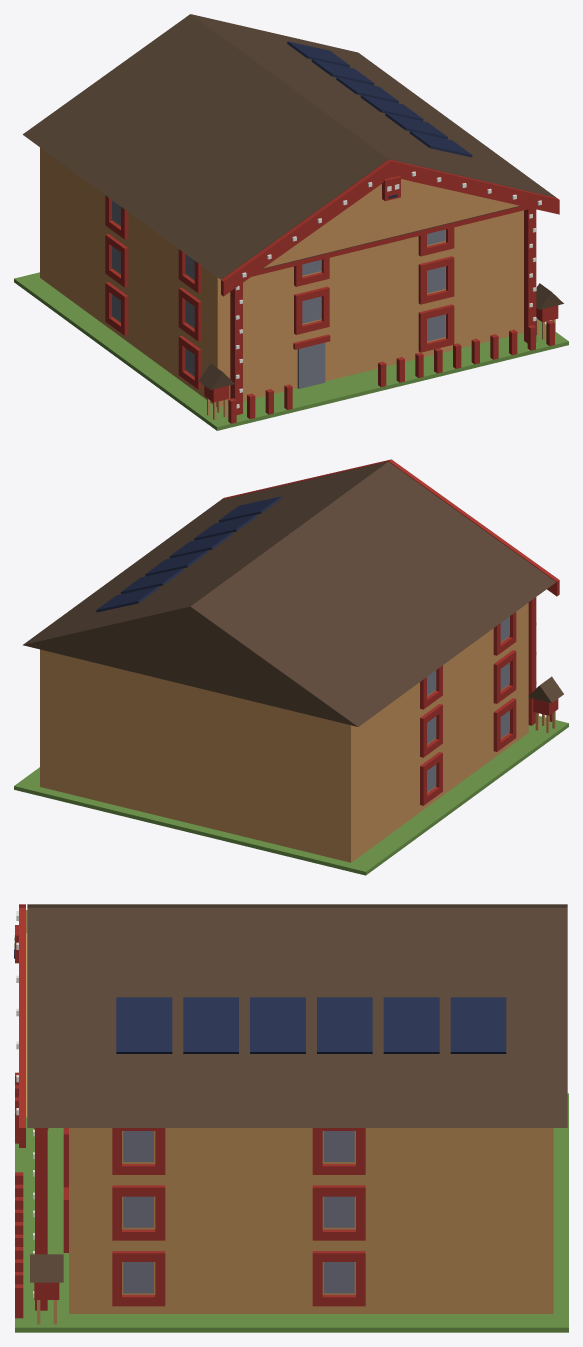
The model's file is house-2x2-3f-whare-a-solar.glb.
3 renders of one model, top to bottom at view 1: azimuth 30°, elevation 25°; view 2: azimuth 150°, elevation 25°; view 3: azimuth 270°, elevation 25°, orthographic. The views are drawn at different scales.
Parts seen in each view (by area): view 1: house-2x2-3f-whare-a-solar; view 2: house-2x2-3f-whare-a-solar; view 3: house-2x2-3f-whare-a-solar.
Part boxes in pixels (x1,y1,x2,y2): house-2x2-3f-whare-a-solar: (14, 14, 568, 430); house-2x2-3f-whare-a-solar: (14, 459, 568, 875); house-2x2-3f-whare-a-solar: (14, 904, 568, 1332).
Bounding box in the file's own units: 2 × 1.22 × 1.99.
1 material, 1 textured.
